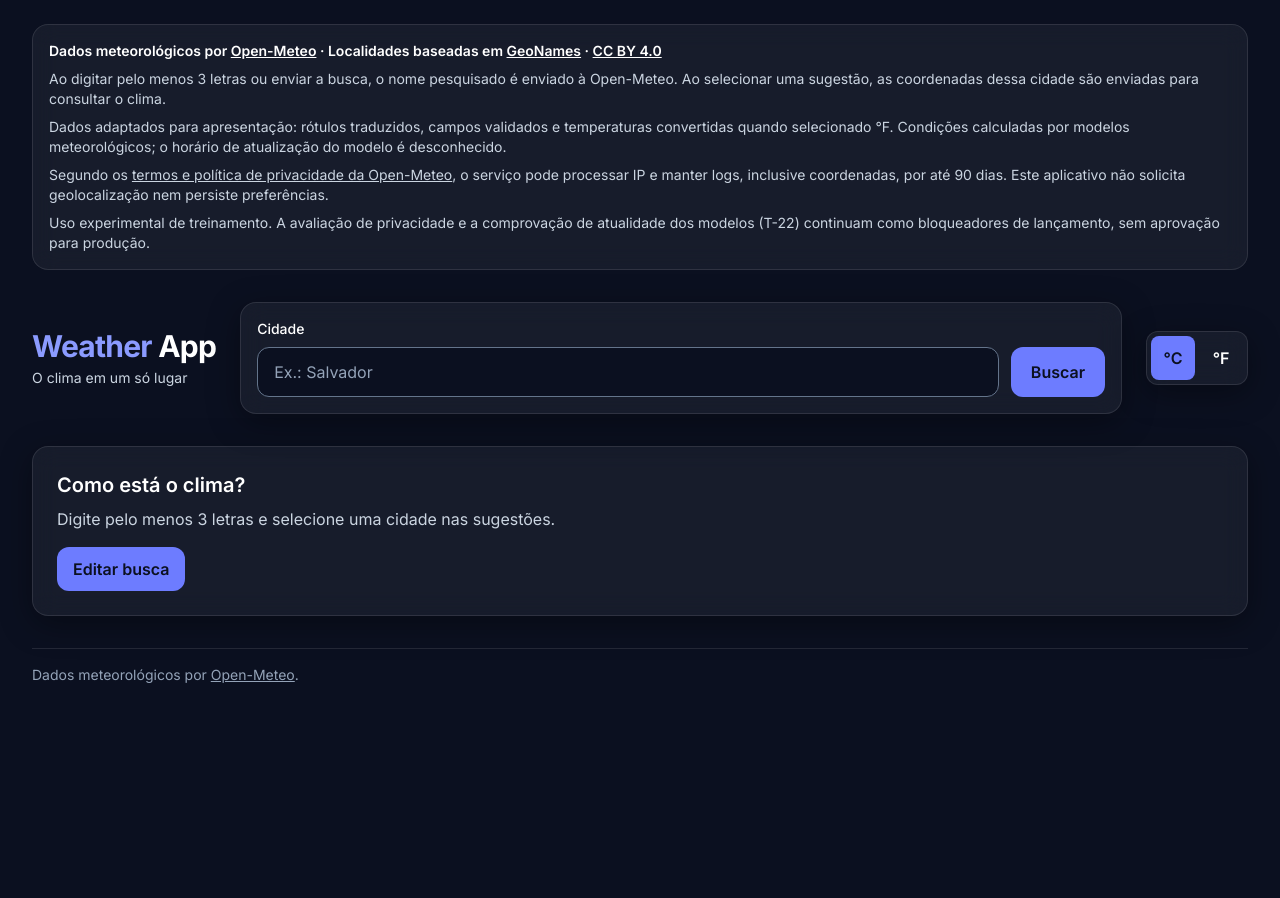
Test: App com API e estados independentes › retry de current preserva a outra seção e unidade
The image size is (1280, 898).
Type "Sal" into the dropdown labelled "Cidade".
click(628, 372); type("Sal")  # box [257,347,999,397]
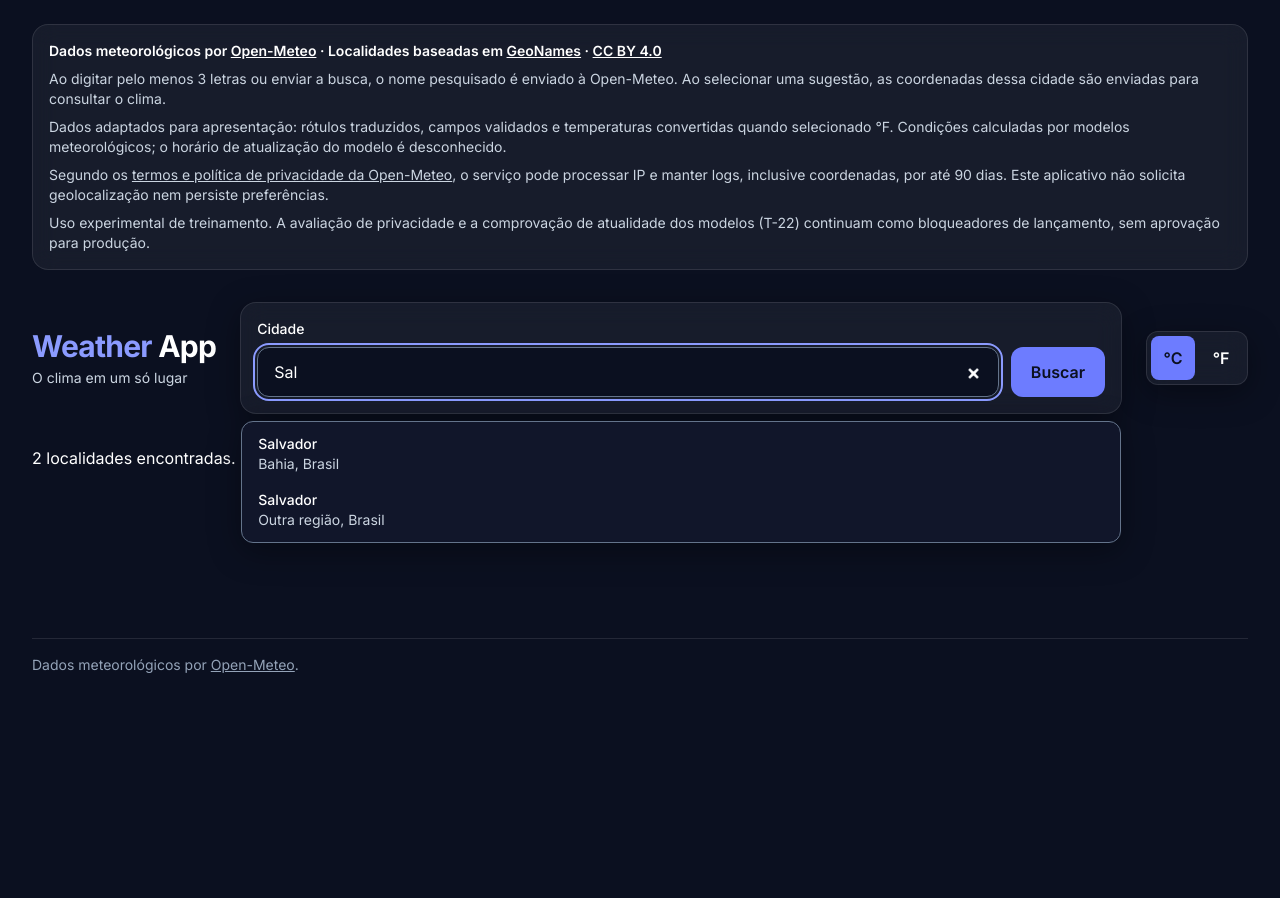
Click the option "Salvador Bahia, Brasil".
click(288, 444)  # box [246,426,1116,482]
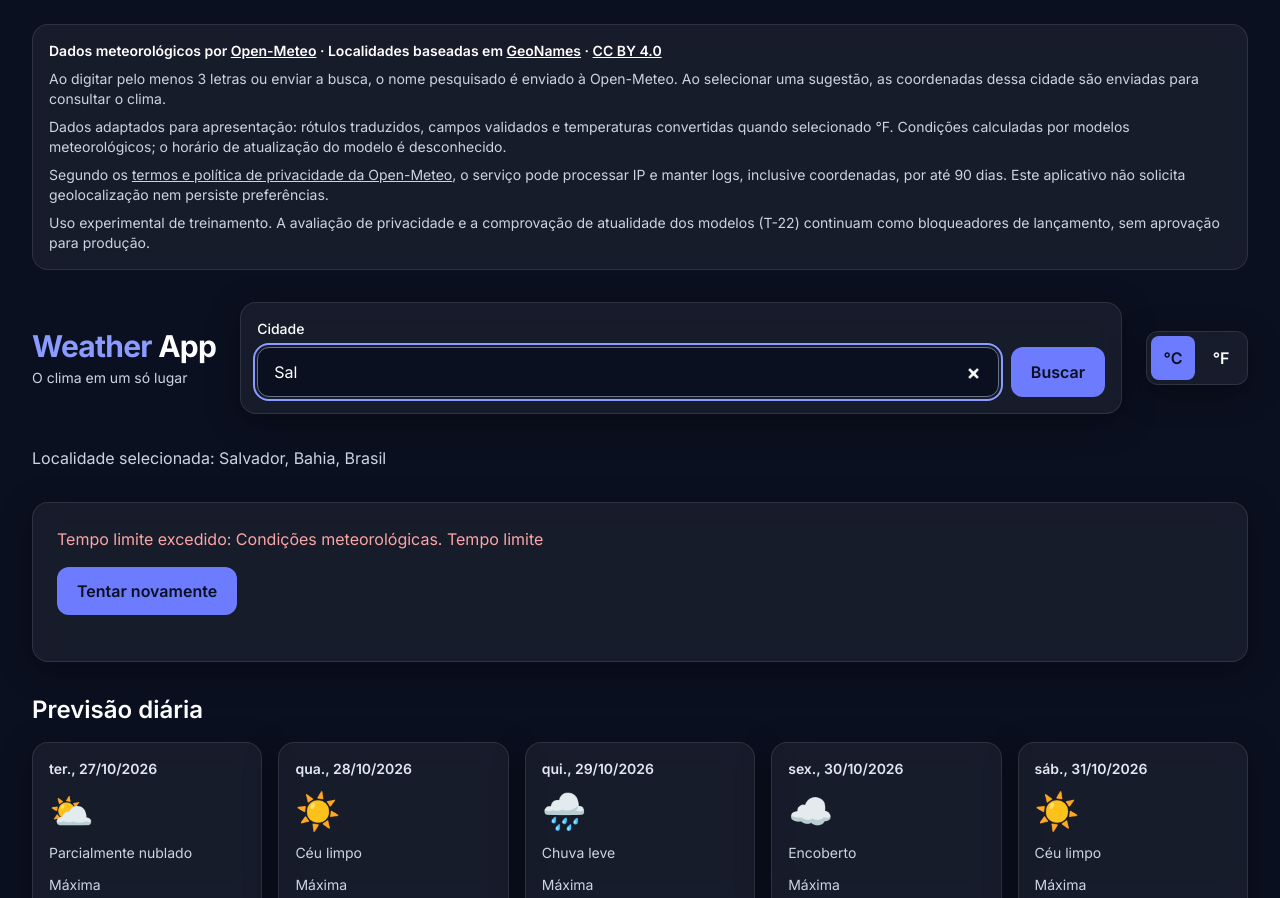
Check: the message shows "Tempo limite excedido", box [57,529,227,549]
Click the button named "Graus Fahrenheit".
click(1221, 358)  # box [1199,336,1243,380]
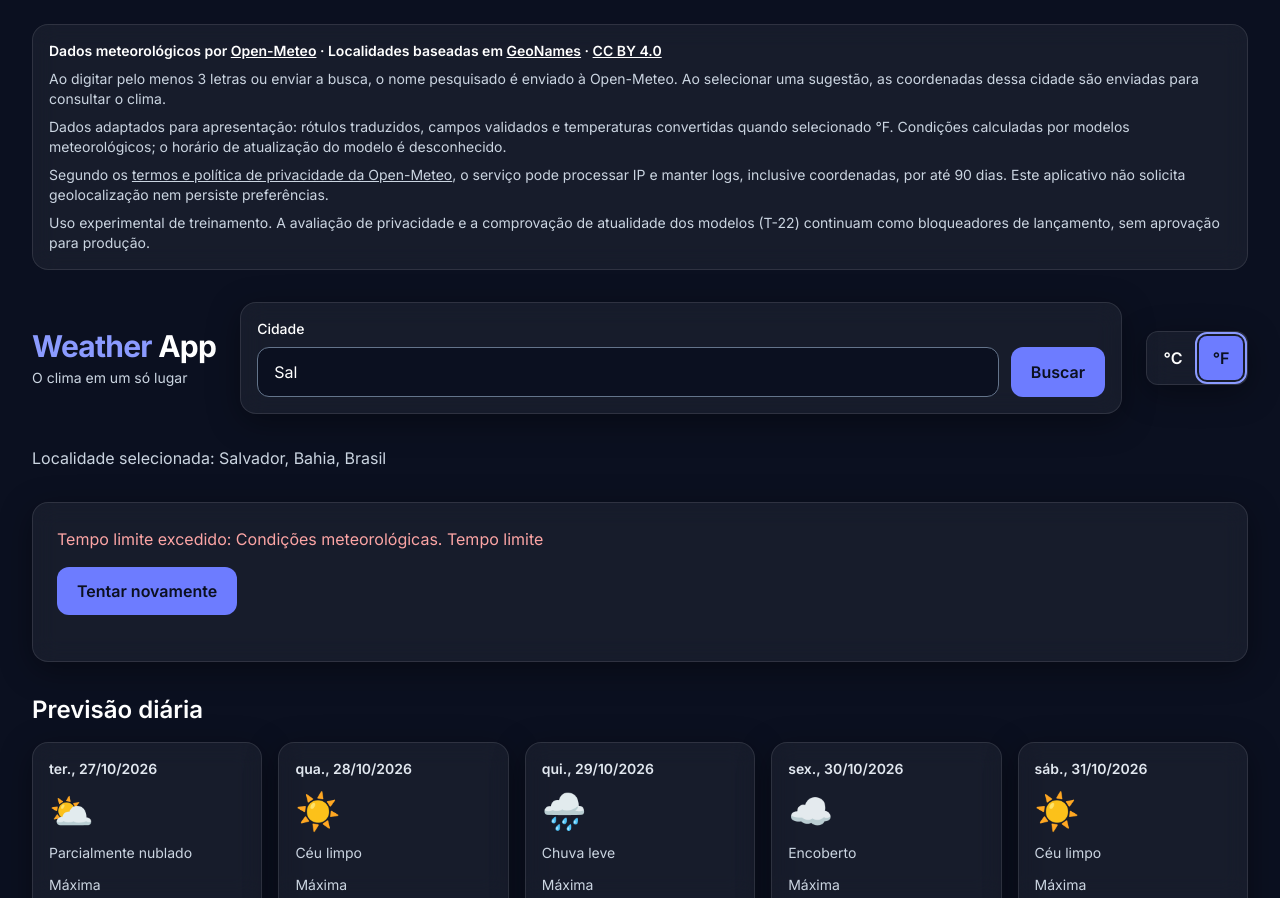
Click the button "Tentar novamente".
click(147, 591)  # box [57,567,237,615]
(page scrolled)
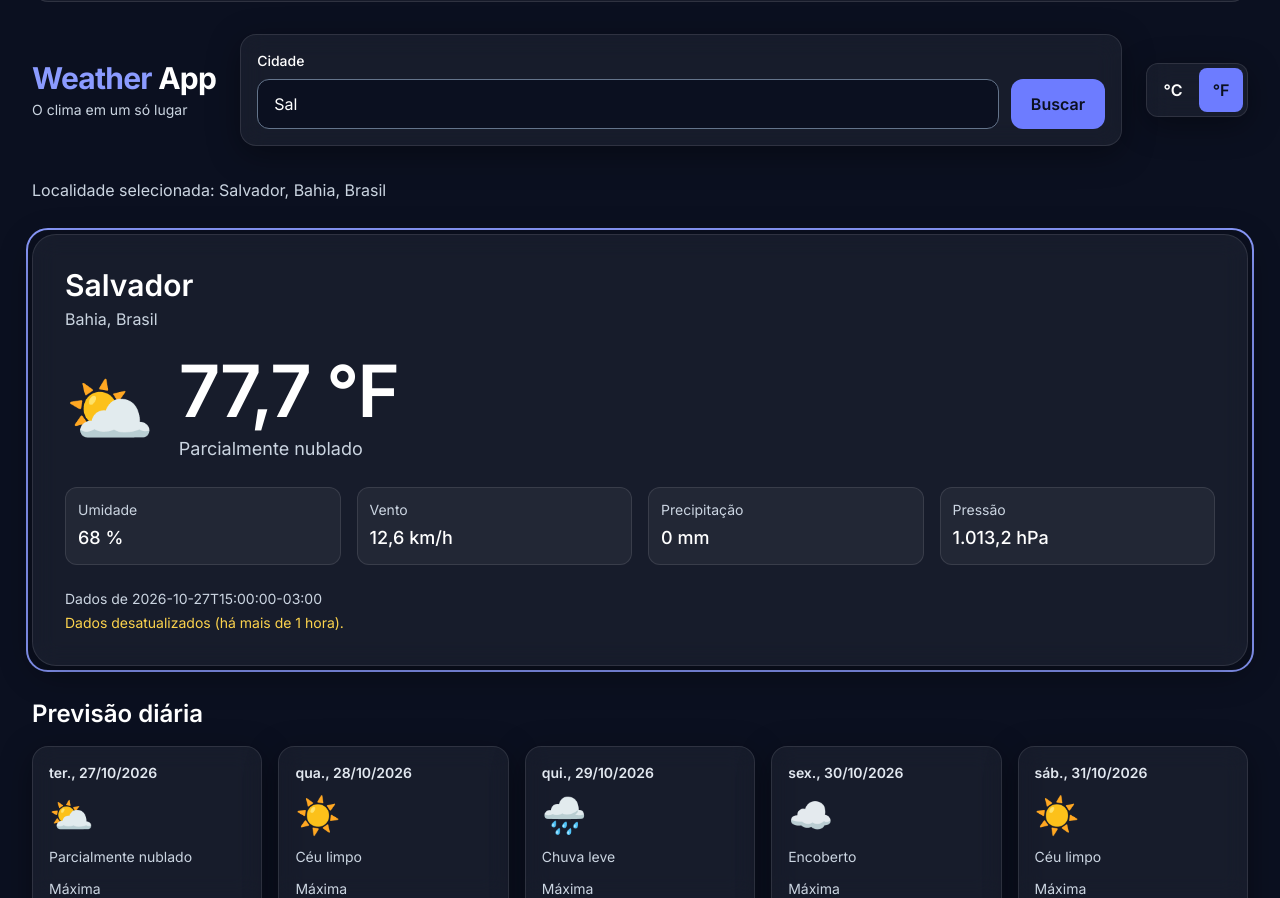
Check: the element "Salvador" is shown, box [32,234,1248,666]
Check: the text "77,7 °F" is shown 11 times
